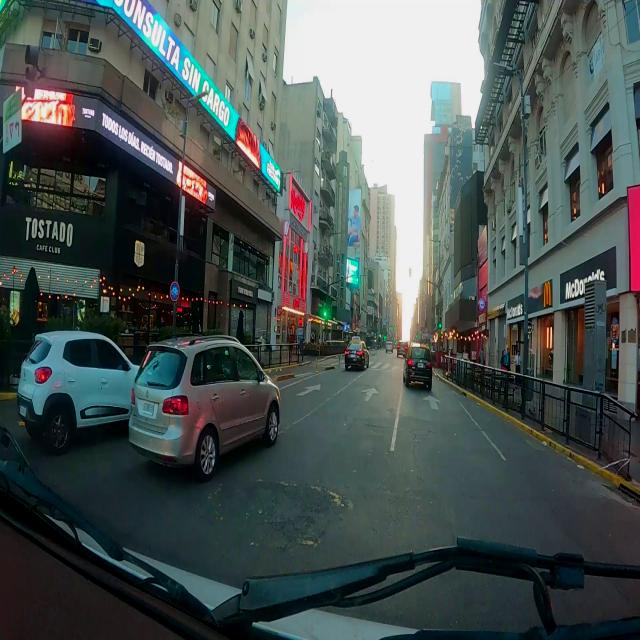car: (129, 336, 279, 481), (17, 331, 137, 453), (403, 344, 432, 389), (344, 338, 369, 369), (397, 342, 408, 357), (386, 342, 393, 353)
